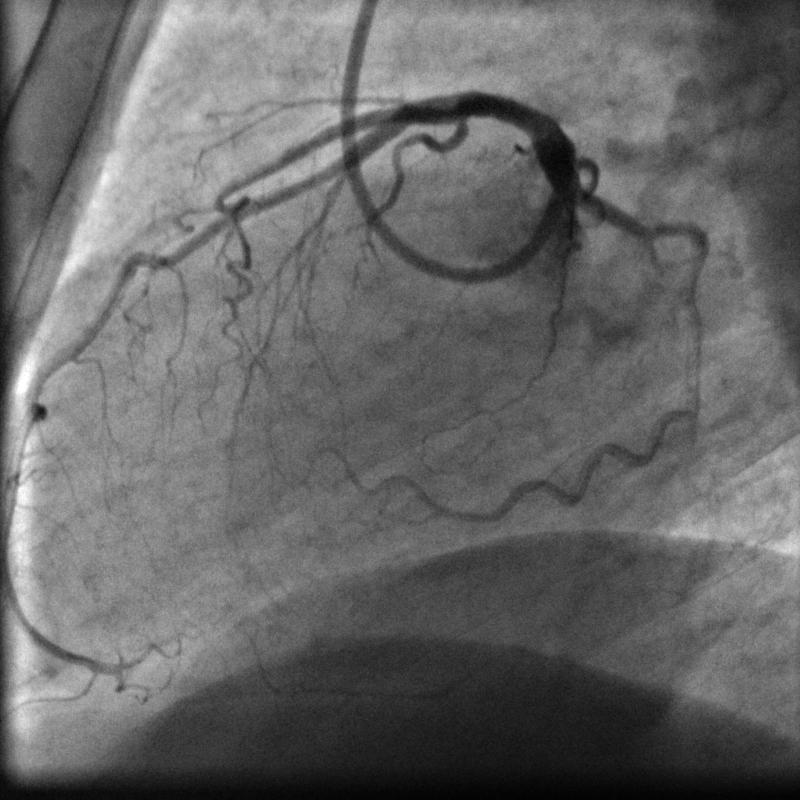Stenosis: (433, 94, 475, 135)
